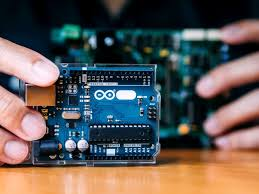arduino: (26, 61, 162, 165)
